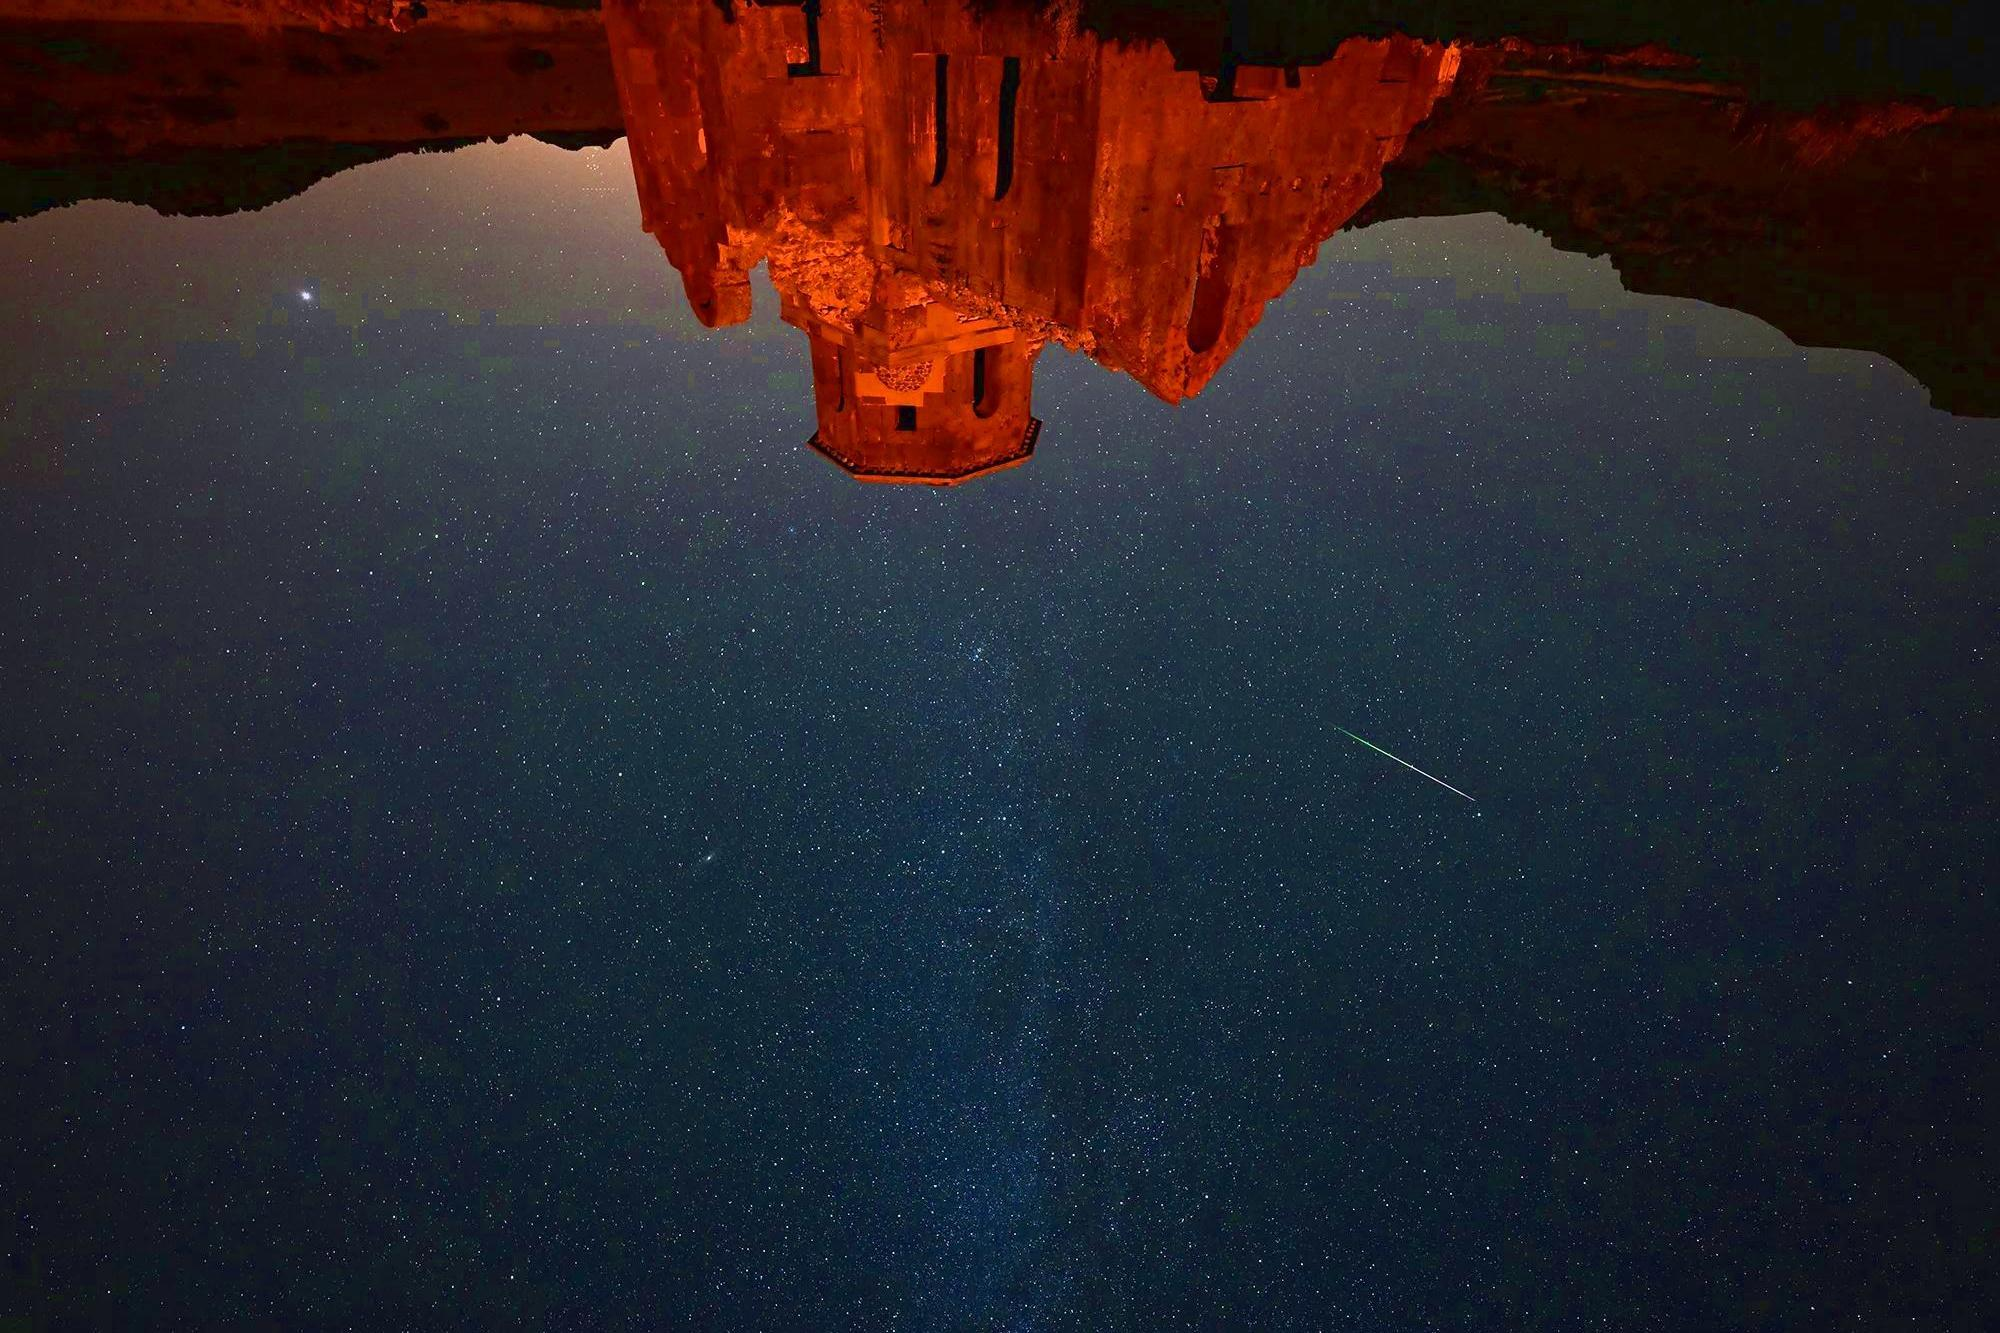meteorite: (1303, 708, 1503, 823)
